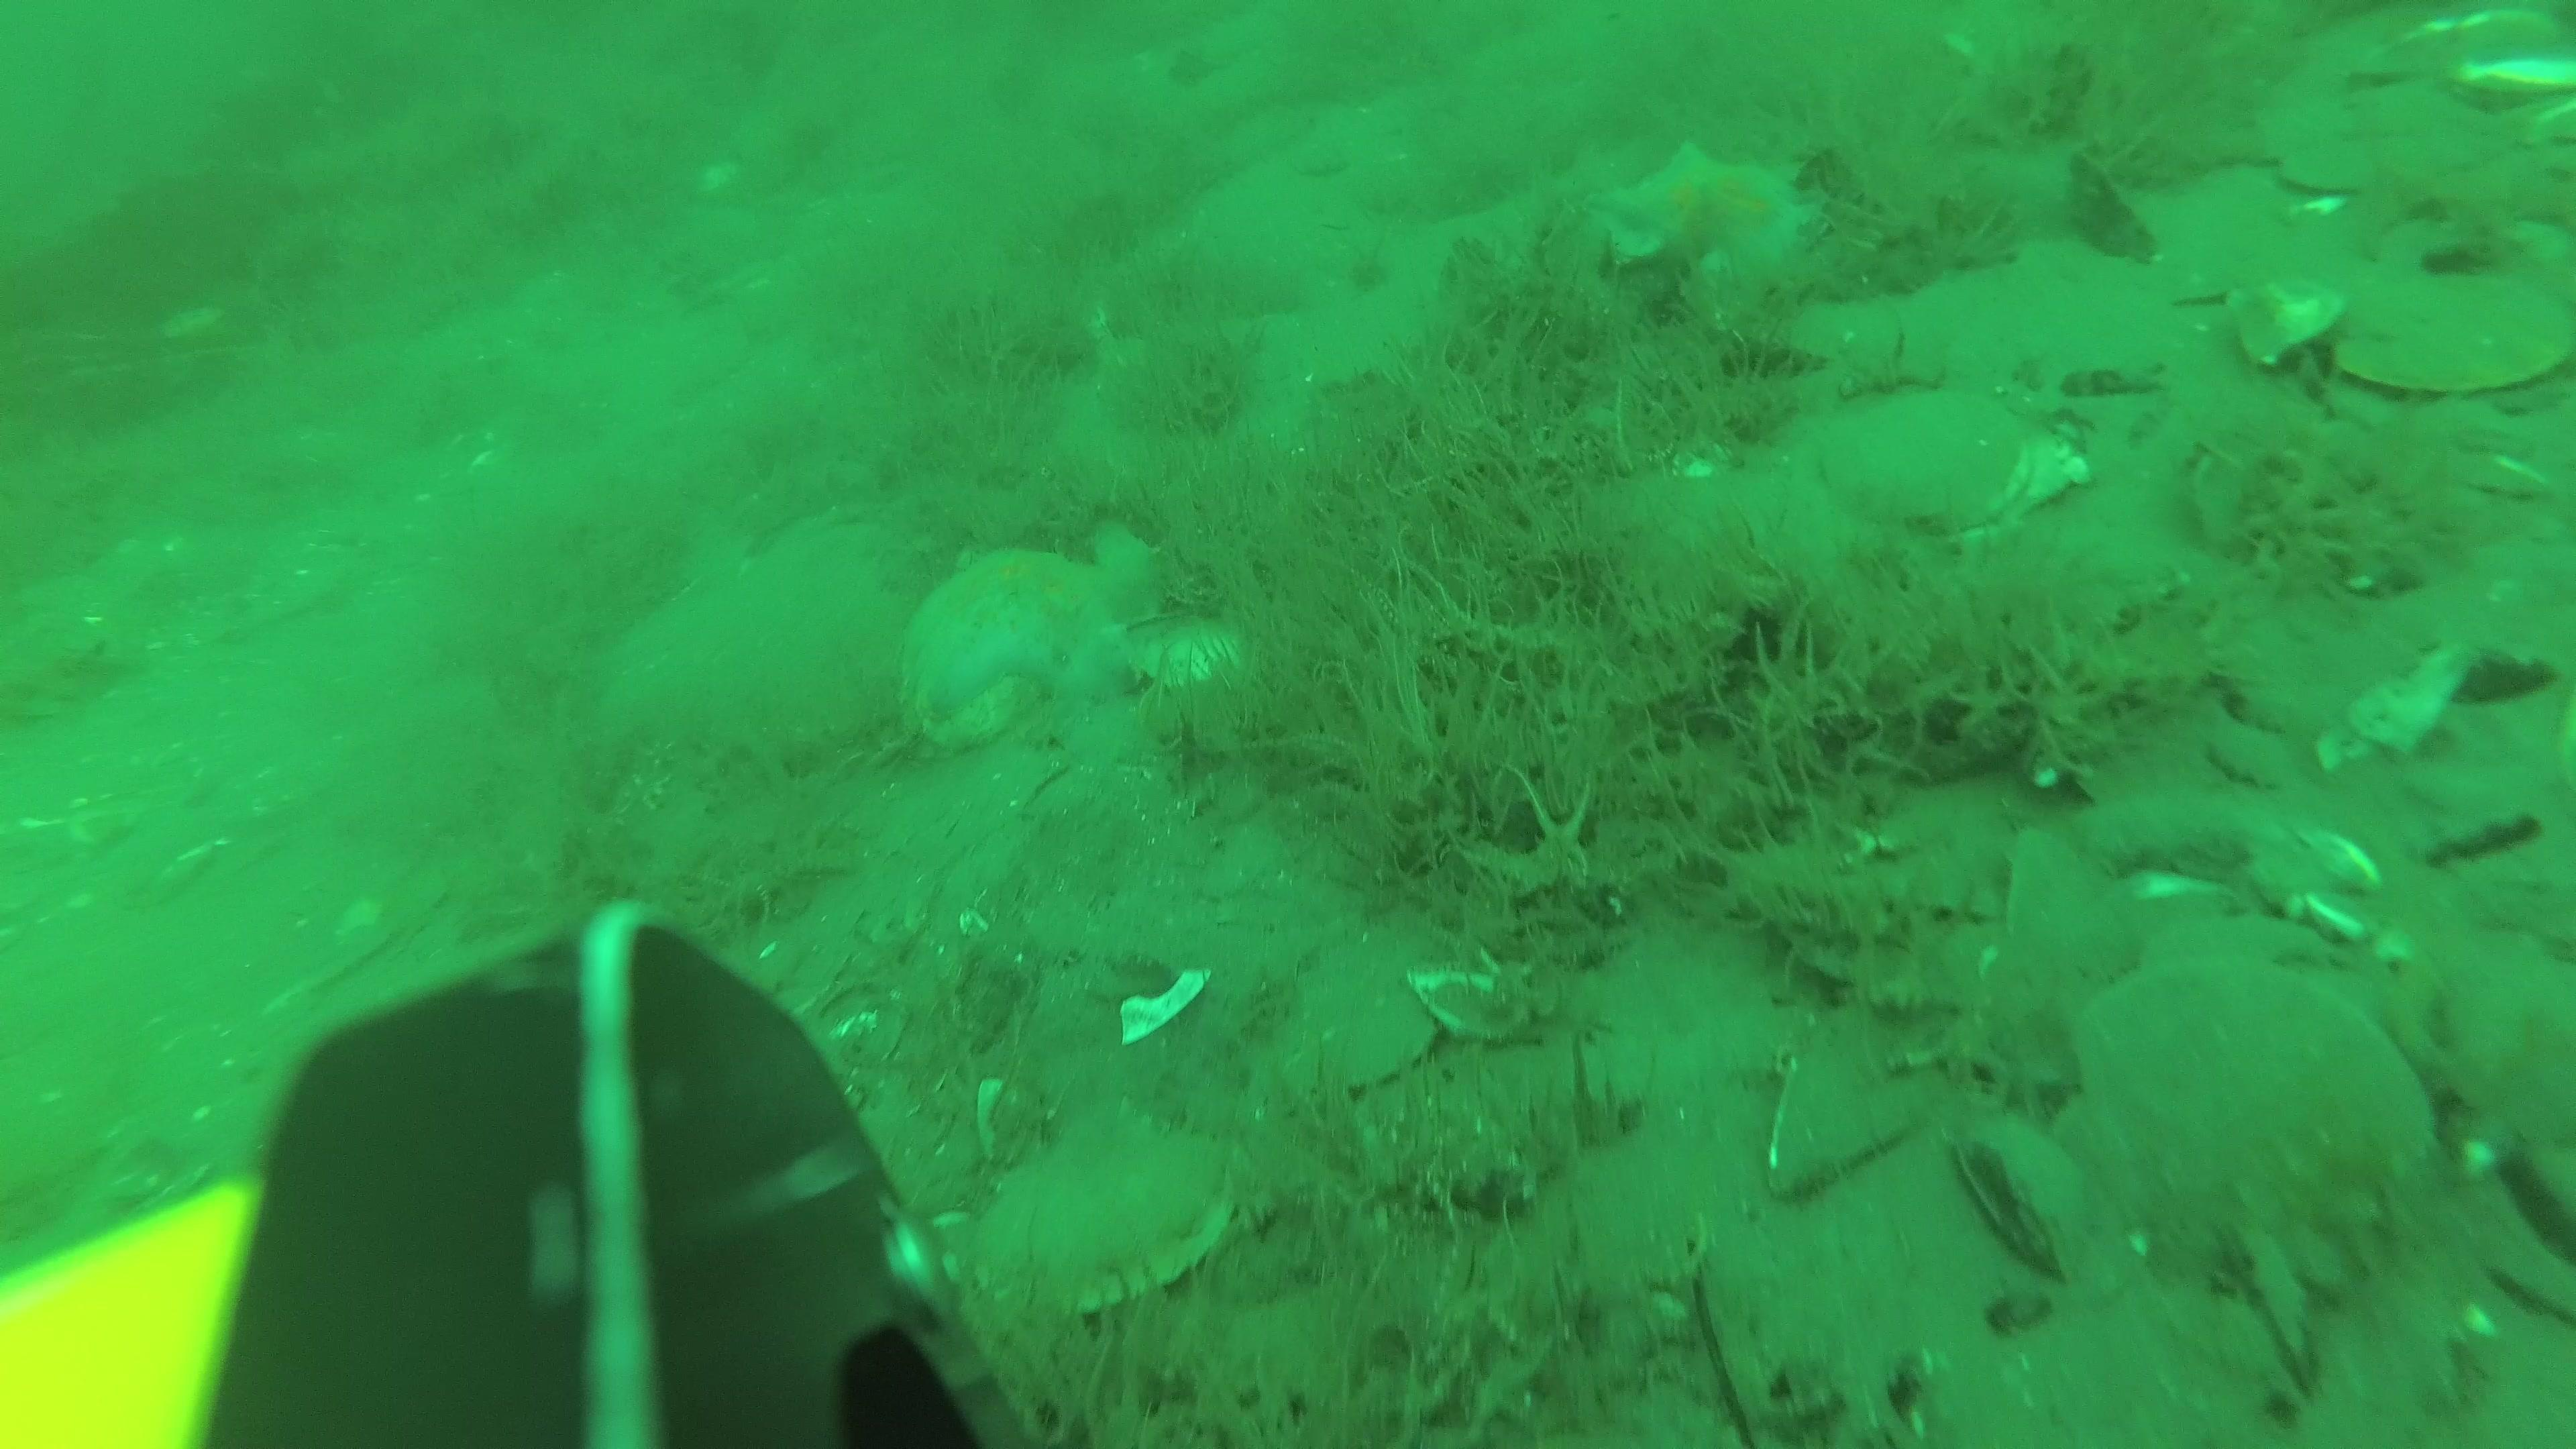scallop: (2075, 996, 2440, 1249), (970, 1113, 1240, 1299), (2327, 257, 2576, 389), (1798, 398, 2036, 525), (1327, 993, 1440, 1097), (1129, 607, 1249, 692)
starfish: (893, 529, 1175, 731), (1594, 134, 1824, 283)
